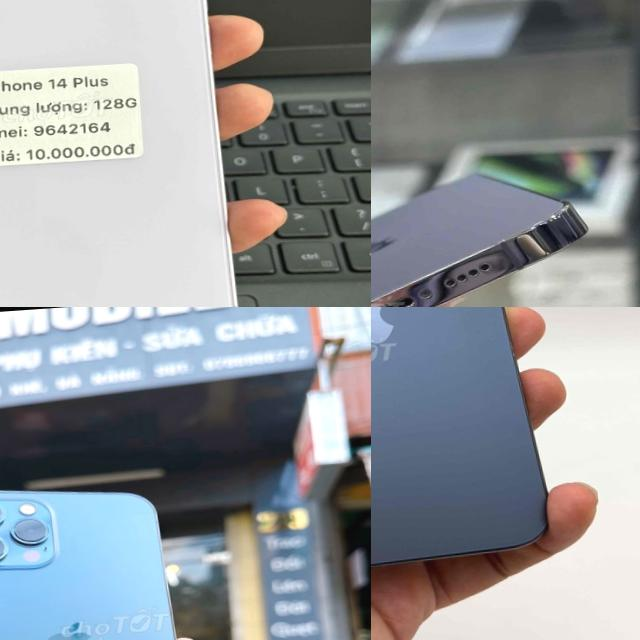gen_12_13: (0, 464, 216, 640)
gen_14: (0, 0, 260, 307), (371, 161, 593, 307)
gen_15: (371, 307, 572, 594)
